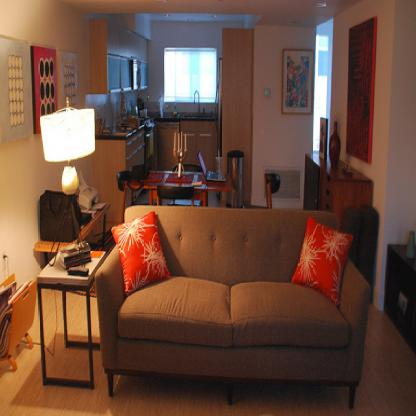suitcase: (39, 191, 79, 245)
